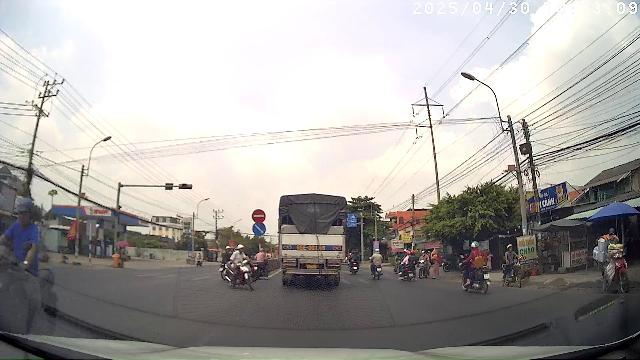102-cam-di-nguoc-chieu: (252, 209, 266, 222)
302a-huong-phai-di-vong-chuong-ngai-vat-1: (252, 223, 266, 236)
